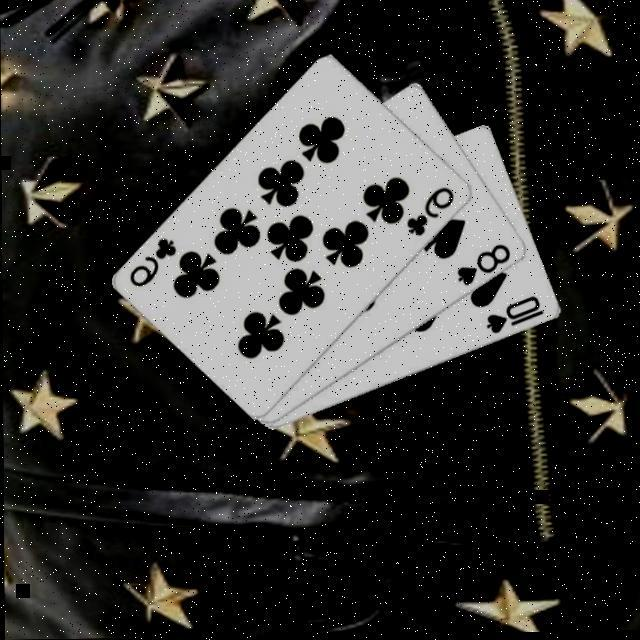10S: (484, 294, 548, 338)
8S: (455, 241, 515, 290)
9C: (405, 184, 460, 240), (128, 233, 182, 289)
